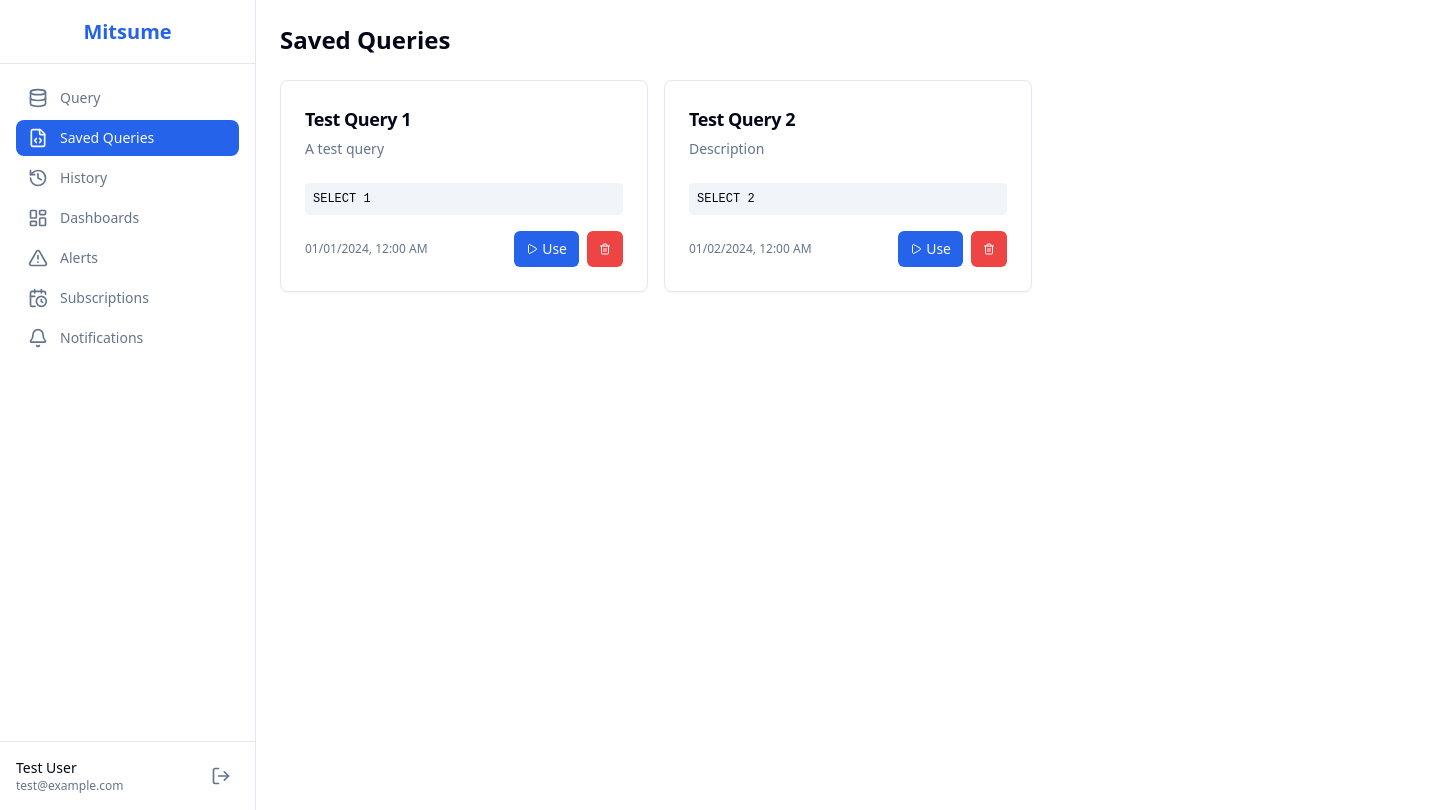
it: クエリ統合テスト › 保存済みクエリを削除できる
The width and height of the screenshot is (1440, 810).
Expected: the heading "Test Query 1" is shown, [305,107,411,131]
Click the button without text in the row of "01/01/2024, 12:00 AM": (605, 249) [587,231,623,267]
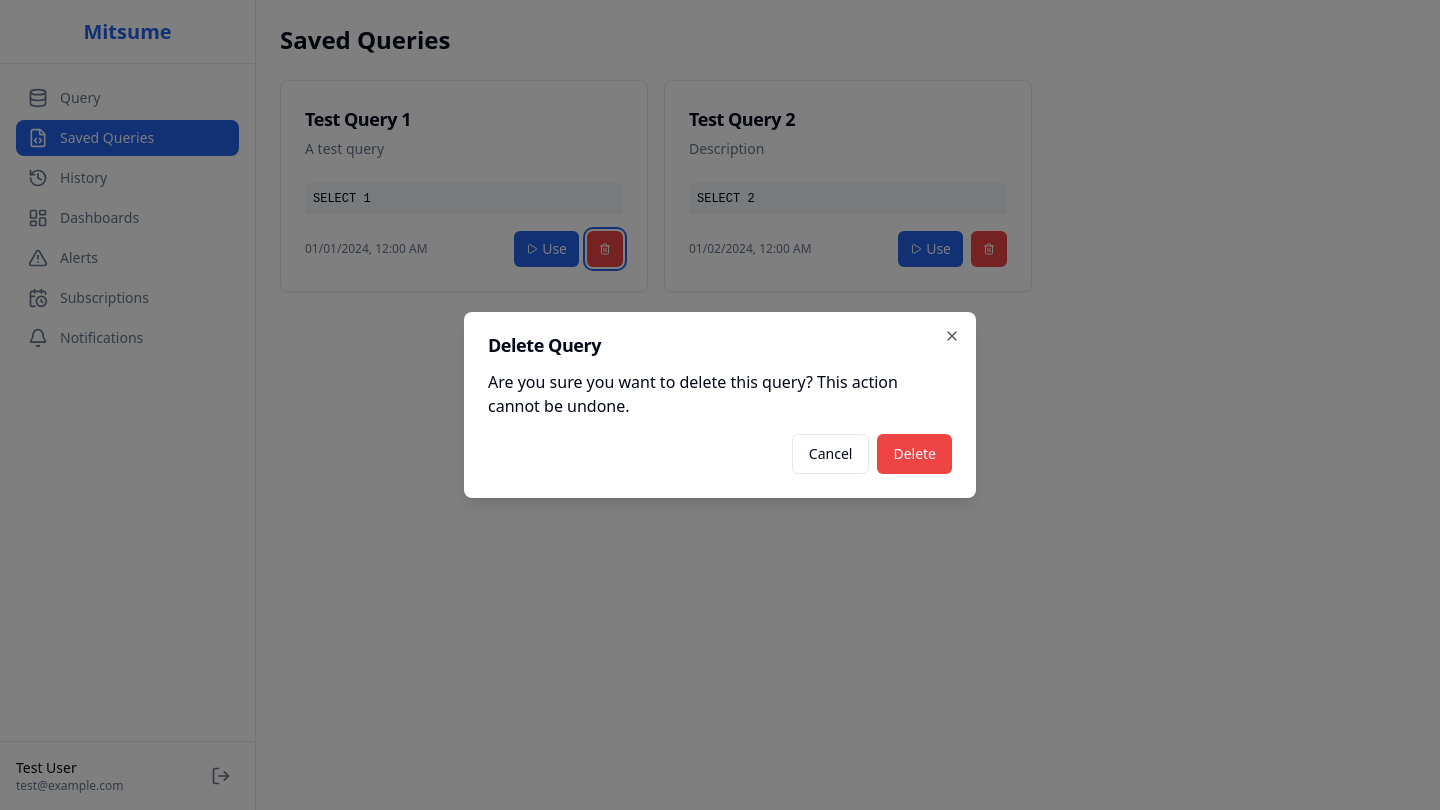
Expected: the heading "Delete Query" is shown, [488,333,601,357]
Click the button "Delete": (915, 454) [877,434,952,474]
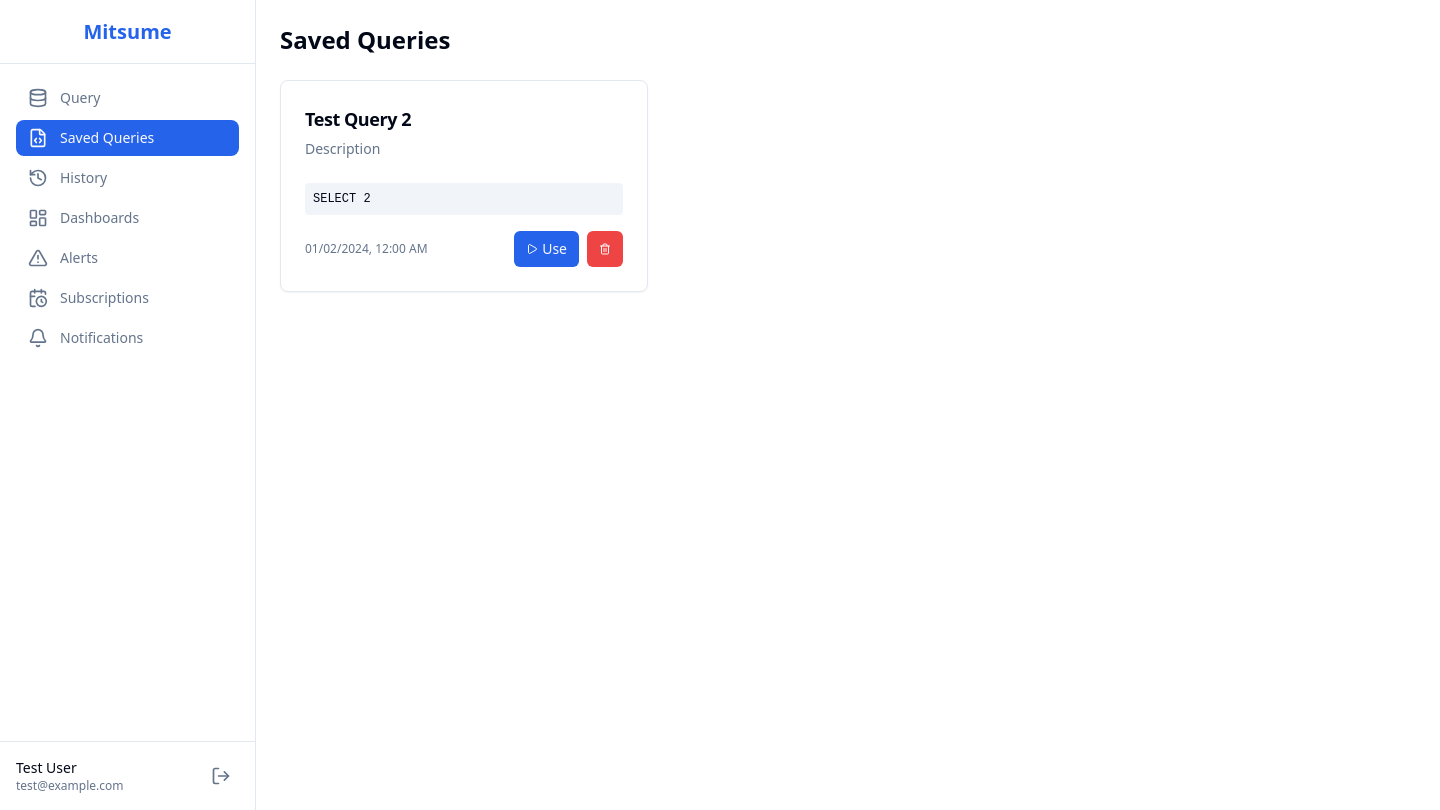
Expected: the heading "Delete Query" is gone
